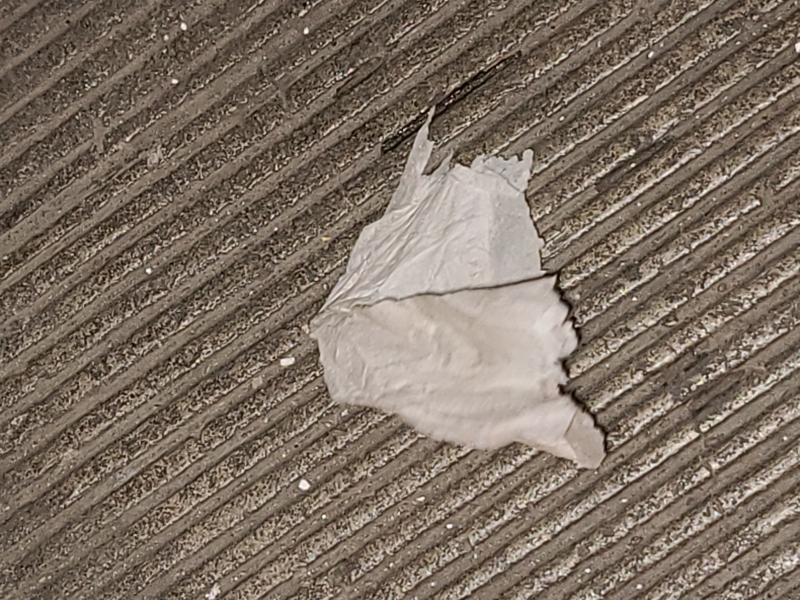papel: (308, 128, 606, 468)
